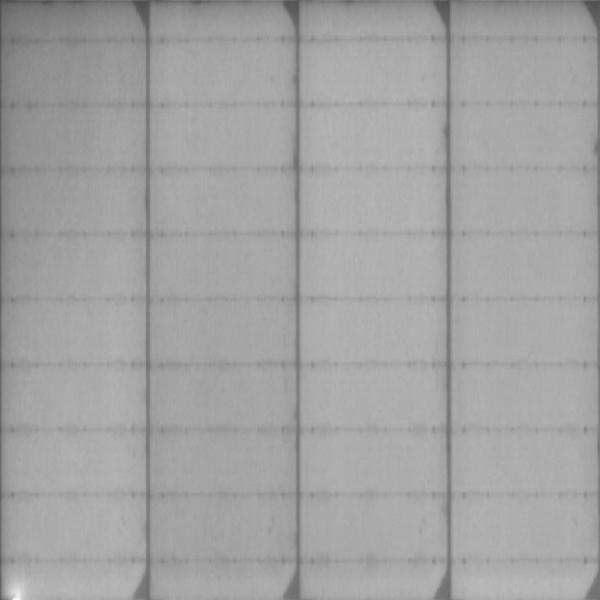hot_spot: (6, 584, 26, 600)
